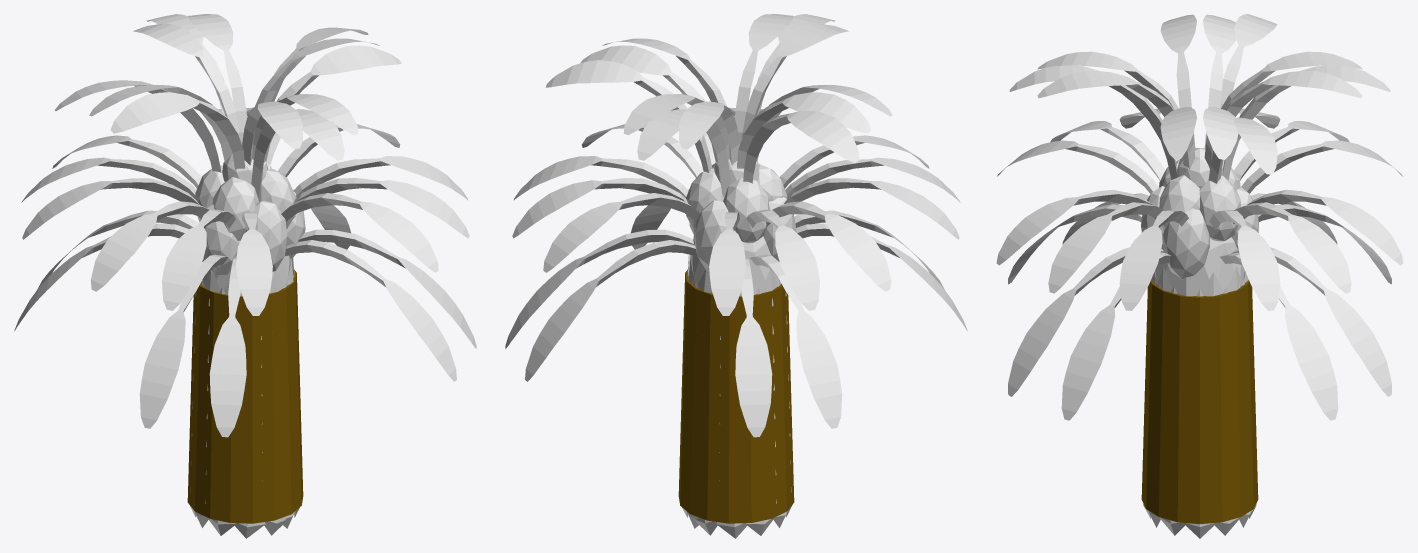
The model's file is Palm Oil Tree.fbx.
The picture shows the model from 3 angles, left to right: view 1: azimuth 30°, elevation 25°; view 2: azimuth 150°, elevation 25°; view 3: azimuth 270°, elevation 25°; orthographic projection.
Visible parts, largest first — view 1: Cylinder, Cube.036, Cube.035, Cube.004, Cube.054, Cube.034, Cube.032, Cube.001, Cube.033, Cube.003, Cube.005, Cube.049 (+24 smaller); view 2: Cylinder, Cube.022, Cube.023, Cube.018, Cube.053, Cube.020, Cube.021, Cube.007, Cube.019, Cube.055, Cube.039, Cube.017 (+24 smaller); view 3: Cylinder, Cube.017, Cube.005, Cube.018, Cube.004, Cube.006, Cube.002, Cube.003, Cube.016, Cube.001, Cube.007, Icosphere.014 (+22 smaller).
Part boxes in pixels (x1=…): Cylinder: x1=187, y1=269, x2=303, y2=523; Cube.036: x1=209, y1=257, x2=246, y2=437; Cube.035: x1=139, y1=254, x2=227, y2=428; Cube.004: x1=285, y1=240, x2=456, y2=381; Cube.054: x1=110, y1=92, x2=244, y2=169; Cube.034: x1=162, y1=209, x2=235, y2=310; Cube.032: x1=90, y1=201, x2=209, y2=291; Cube.001: x1=281, y1=193, x2=438, y2=272; Cube.033: x1=236, y1=212, x2=272, y2=315; Cube.003: x1=294, y1=178, x2=469, y2=238; Cube.005: x1=298, y1=229, x2=476, y2=348; Cube.049: x1=263, y1=45, x2=401, y2=162; Cylinder: x1=678, y1=269, x2=794, y2=523; Cube.022: x1=735, y1=257, x2=772, y2=437; Cube.023: x1=749, y1=254, x2=842, y2=428; Cube.018: x1=525, y1=240, x2=696, y2=381; Cube.053: x1=743, y1=110, x2=859, y2=183; Cube.020: x1=766, y1=201, x2=891, y2=291; Cube.021: x1=746, y1=209, x2=819, y2=310; Cube.007: x1=543, y1=193, x2=700, y2=272; Cube.019: x1=709, y1=212, x2=745, y2=315; Cube.055: x1=737, y1=92, x2=871, y2=168; Cube.039: x1=545, y1=60, x2=712, y2=172; Cube.017: x1=505, y1=229, x2=694, y2=348; Cylinder: x1=1141, y1=280, x2=1258, y2=523; Cube.017: x1=1220, y1=252, x2=1338, y2=420; Cube.005: x1=1061, y1=252, x2=1171, y2=420; Cube.018: x1=1231, y1=247, x2=1391, y2=396; Cube.004: x1=1008, y1=247, x2=1163, y2=396; Cube.006: x1=1209, y1=210, x2=1280, y2=310; Cube.002: x1=1119, y1=210, x2=1188, y2=310; Cube.003: x1=1048, y1=202, x2=1166, y2=293; Cube.016: x1=1233, y1=202, x2=1351, y2=293; Cube.001: x1=996, y1=189, x2=1156, y2=265; Cube.007: x1=1243, y1=189, x2=1403, y2=265; Icosphere.014: x1=1163, y1=208, x2=1209, y2=278.
Size of the model in its own units: 704 by 805 by 660.
